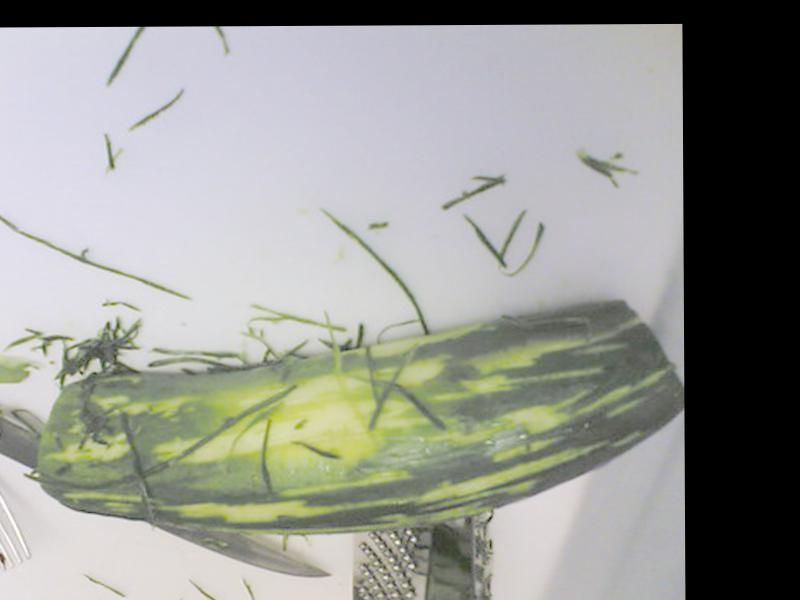Cucumber: (35, 298, 681, 535)
